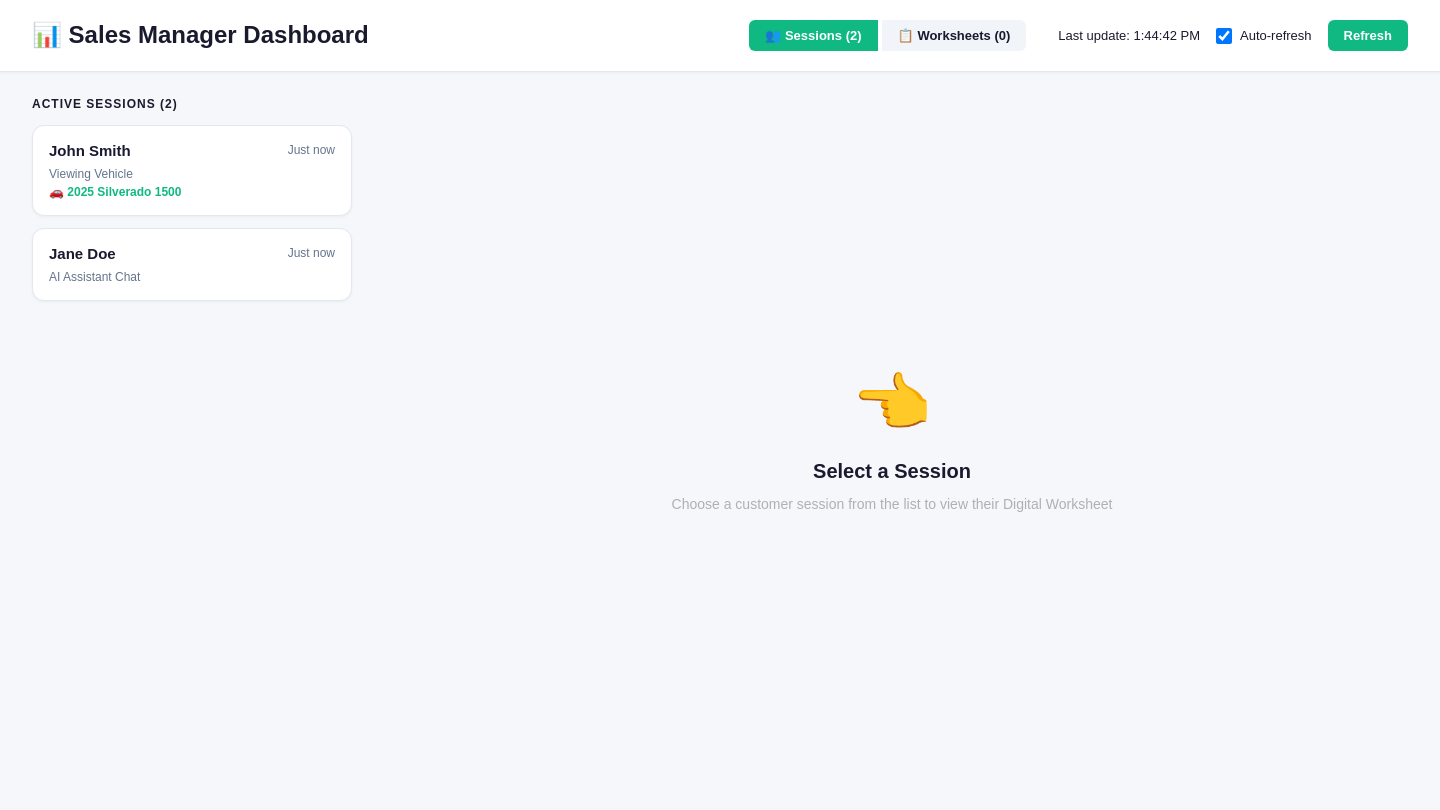
it: SalesManagerDashboard Component › Session Selection › clicking session shows Digital Worksheet
This screenshot has width=1440, height=810.
Click the text "John Smith": x=90, y=150 49,142 -> 131,159
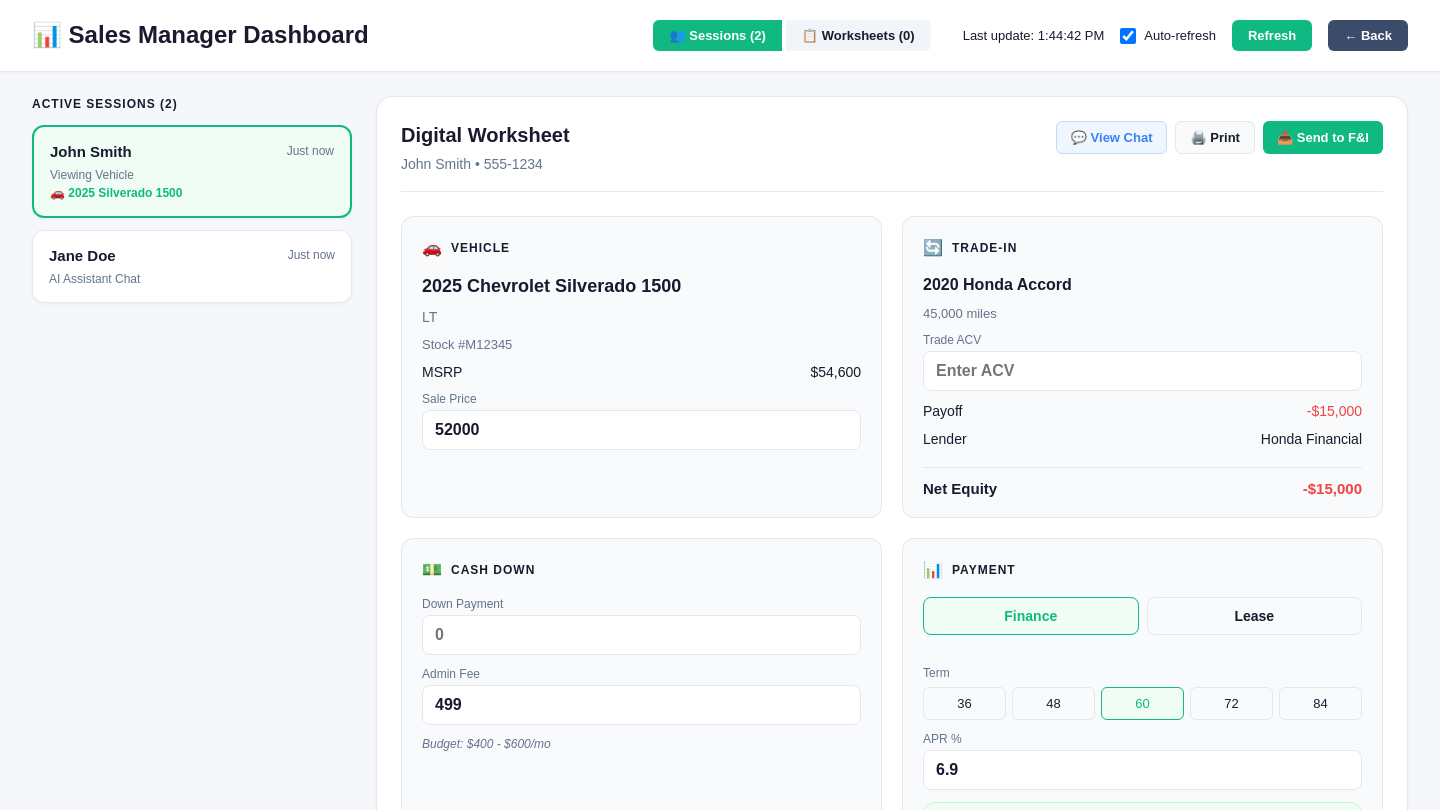
Check: the heading "Digital Worksheet" is shown, box 401,121 -> 570,149
